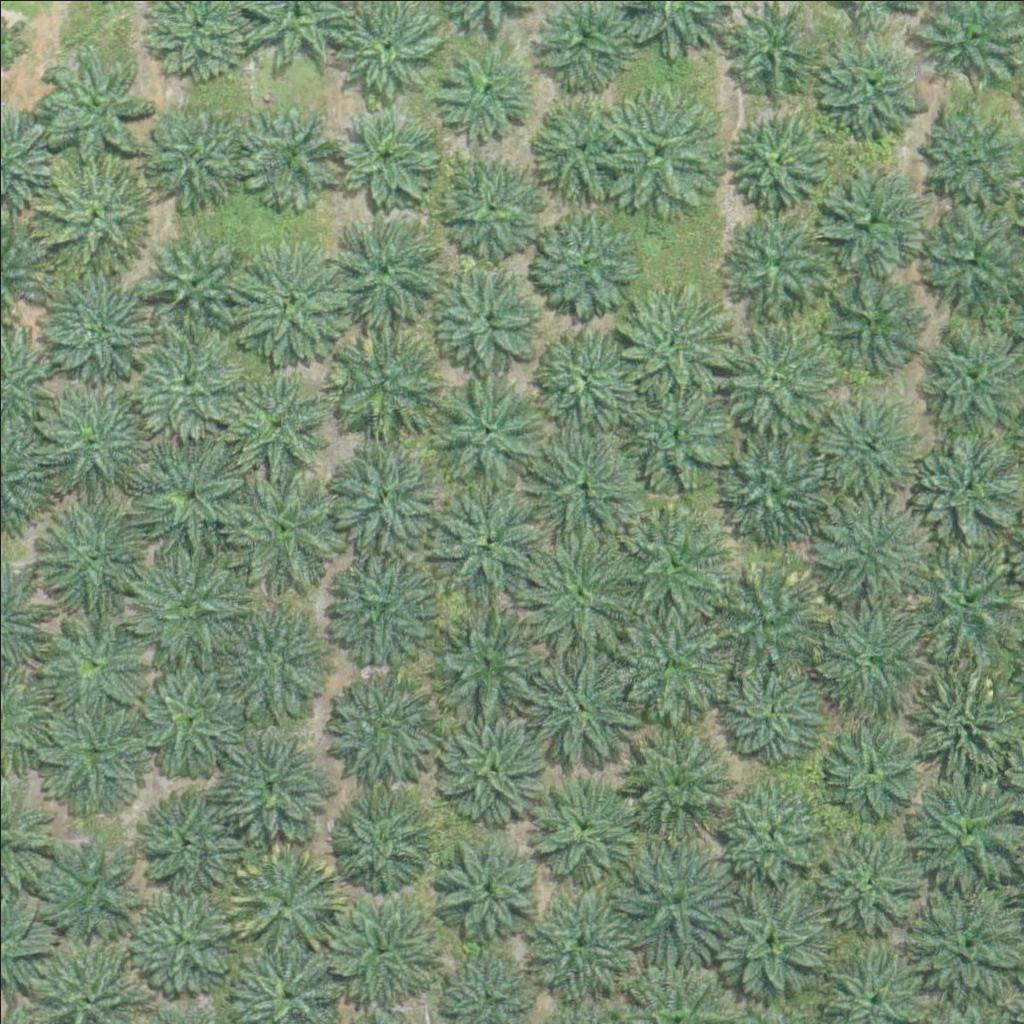Kelapa_Sawit: (616, 829, 741, 955), (705, 866, 830, 992), (30, 690, 155, 816), (123, 654, 248, 780), (894, 668, 1019, 794), (808, 478, 933, 604), (807, 588, 932, 714), (710, 425, 835, 551), (714, 314, 839, 440), (606, 269, 731, 395), (613, 367, 738, 493), (521, 530, 646, 656), (519, 426, 644, 552), (523, 319, 648, 445), (527, 198, 652, 324), (425, 248, 550, 374), (425, 365, 550, 491), (318, 662, 443, 788), (315, 544, 440, 670), (319, 318, 444, 444), (320, 202, 445, 328), (222, 462, 347, 588), (215, 594, 340, 720), (210, 722, 335, 848), (126, 531, 251, 657), (132, 428, 257, 554), (124, 306, 249, 432), (37, 255, 162, 381), (29, 369, 154, 495), (34, 490, 159, 616), (598, 87, 723, 213), (220, 830, 345, 955), (318, 888, 443, 1013), (520, 645, 645, 770), (419, 483, 544, 608), (419, 595, 544, 720), (319, 432, 444, 557), (224, 236, 349, 361), (803, 818, 916, 932), (35, 825, 148, 938), (123, 885, 236, 998), (711, 773, 824, 886), (618, 609, 731, 722), (716, 654, 829, 767), (709, 556, 822, 669), (35, 53, 148, 166), (812, 26, 925, 139), (519, 881, 631, 994), (909, 771, 1021, 884), (811, 266, 923, 379), (619, 730, 731, 843), (722, 200, 834, 313), (523, 768, 635, 881), (35, 158, 147, 271), (141, 796, 241, 897), (331, 796, 431, 897), (436, 836, 536, 937), (821, 716, 921, 817), (623, 515, 723, 616), (441, 713, 541, 814), (224, 369, 324, 470), (143, 103, 243, 204), (244, 104, 344, 205), (334, 101, 434, 202), (446, 154, 546, 255), (434, 38, 534, 139), (532, 105, 632, 206), (811, 384, 911, 484), (43, 608, 143, 708), (729, 111, 829, 211), (720, 3, 820, 103), (817, 167, 917, 267), (152, 233, 239, 322)
